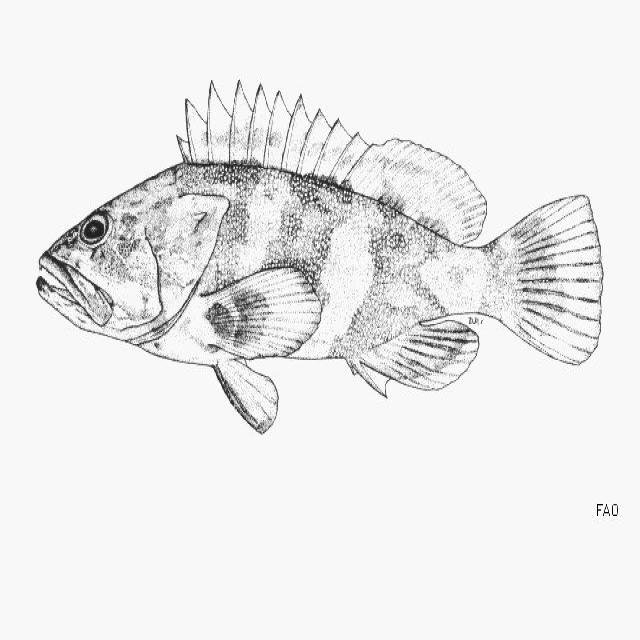ikan: (35, 77, 604, 435)
